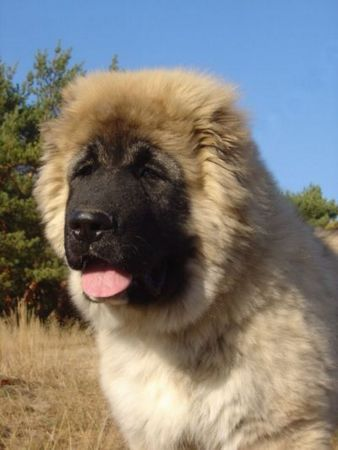cau_ovcharka: (33, 68, 337, 450)
